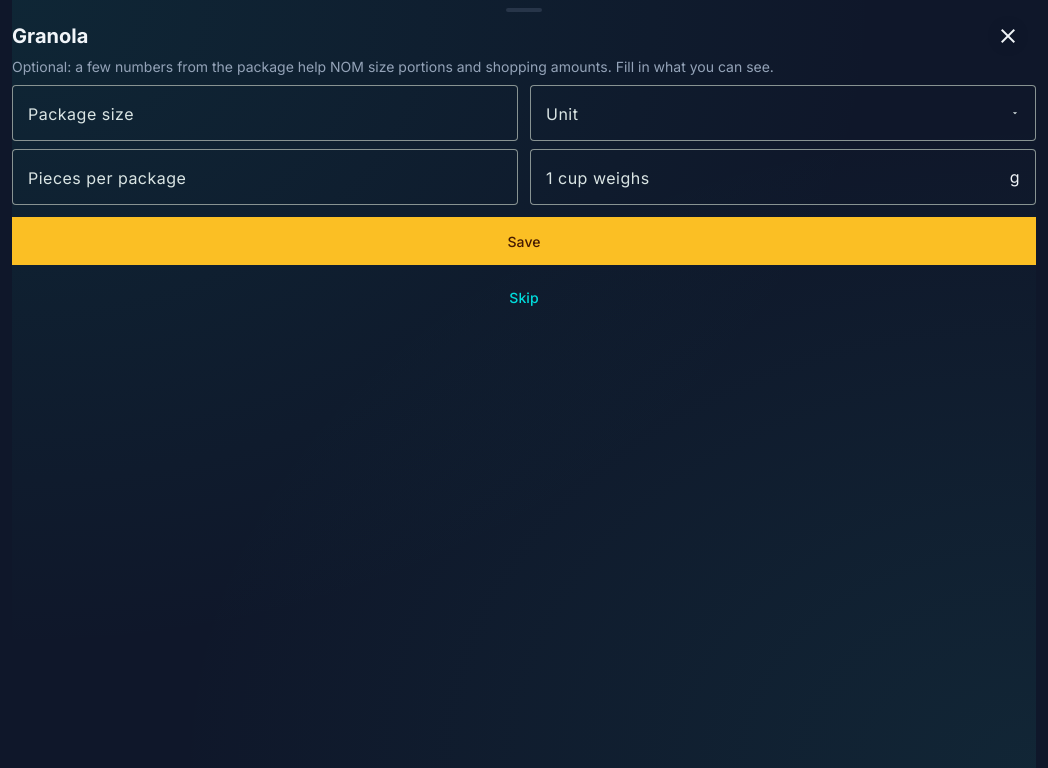
Test case: MeasurementsSheet › starts in ounces for an imperial household and says so when Save is pressed on an empty form
This screenshot has width=1048, height=768.
Click the button with test id "measurements-save-btn". click: click(524, 241)
box: [12,217,1036,265]
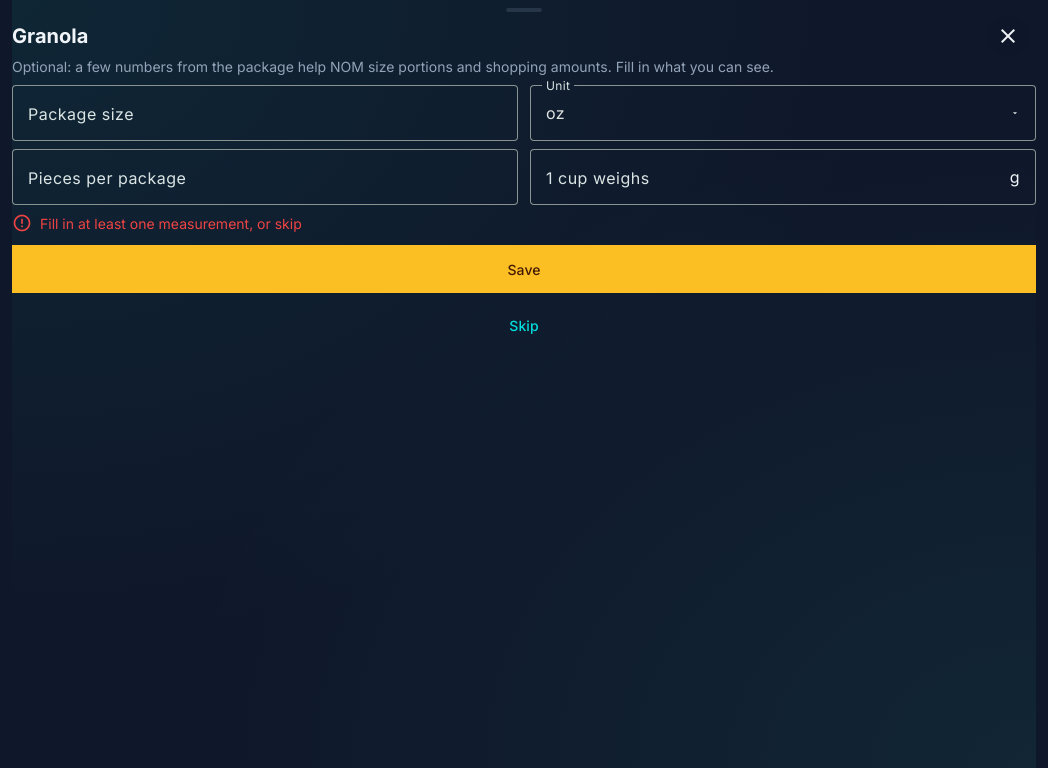
Expected: the message with test id "measurements-error" reads "Fill in at least one measurement, or skip", [40,214,302,232]
